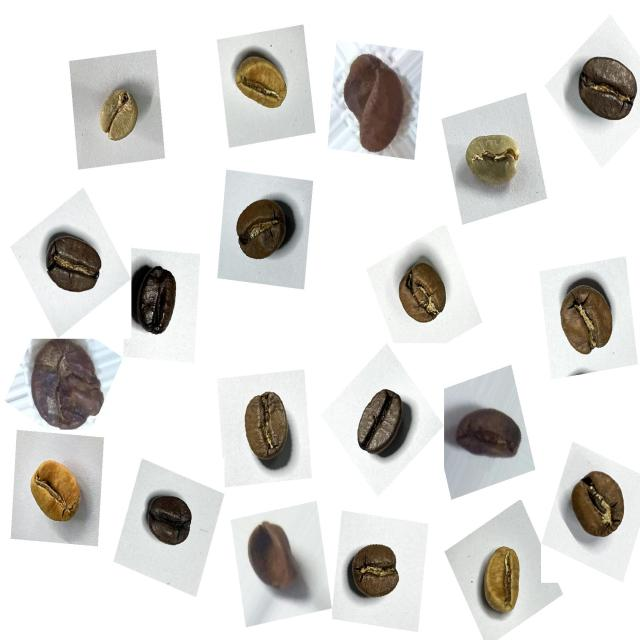bad: (332, 44, 419, 163), (23, 334, 111, 437), (239, 515, 310, 605), (451, 393, 528, 474)
dark: (344, 376, 416, 467), (567, 47, 637, 138), (38, 223, 111, 308), (126, 255, 192, 347), (137, 486, 202, 563)
green: (454, 120, 532, 202), (85, 79, 149, 155)
light: (22, 451, 93, 539), (223, 42, 297, 126), (471, 536, 536, 625)
medium: (547, 274, 626, 370), (230, 381, 303, 476), (562, 462, 637, 552), (226, 186, 302, 273), (389, 252, 459, 336), (342, 535, 410, 611)
